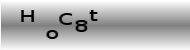8: (75, 18, 88, 32)
C: (57, 12, 74, 26)
H: (18, 8, 36, 23)
o: (46, 28, 59, 40)
t: (88, 8, 100, 22)
